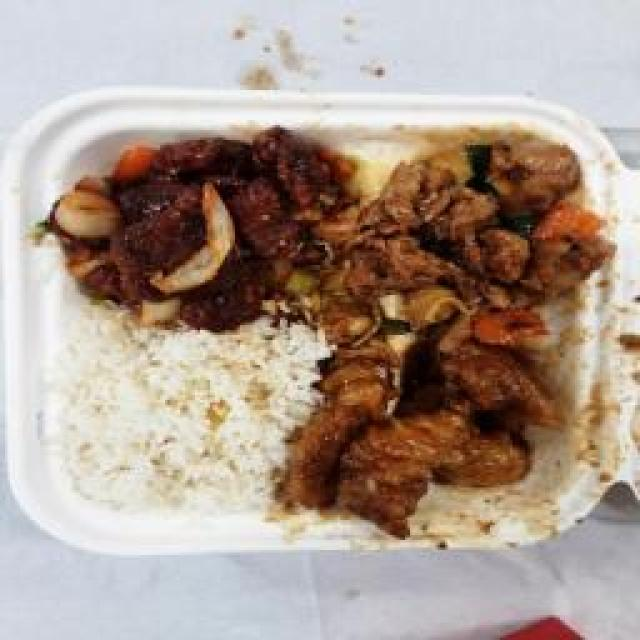Wet Waste: (318, 130, 608, 352), (43, 120, 345, 322), (55, 320, 305, 515), (290, 345, 562, 523)
